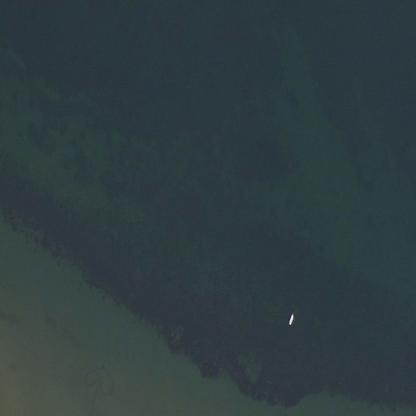ship: (280, 307, 302, 333)
